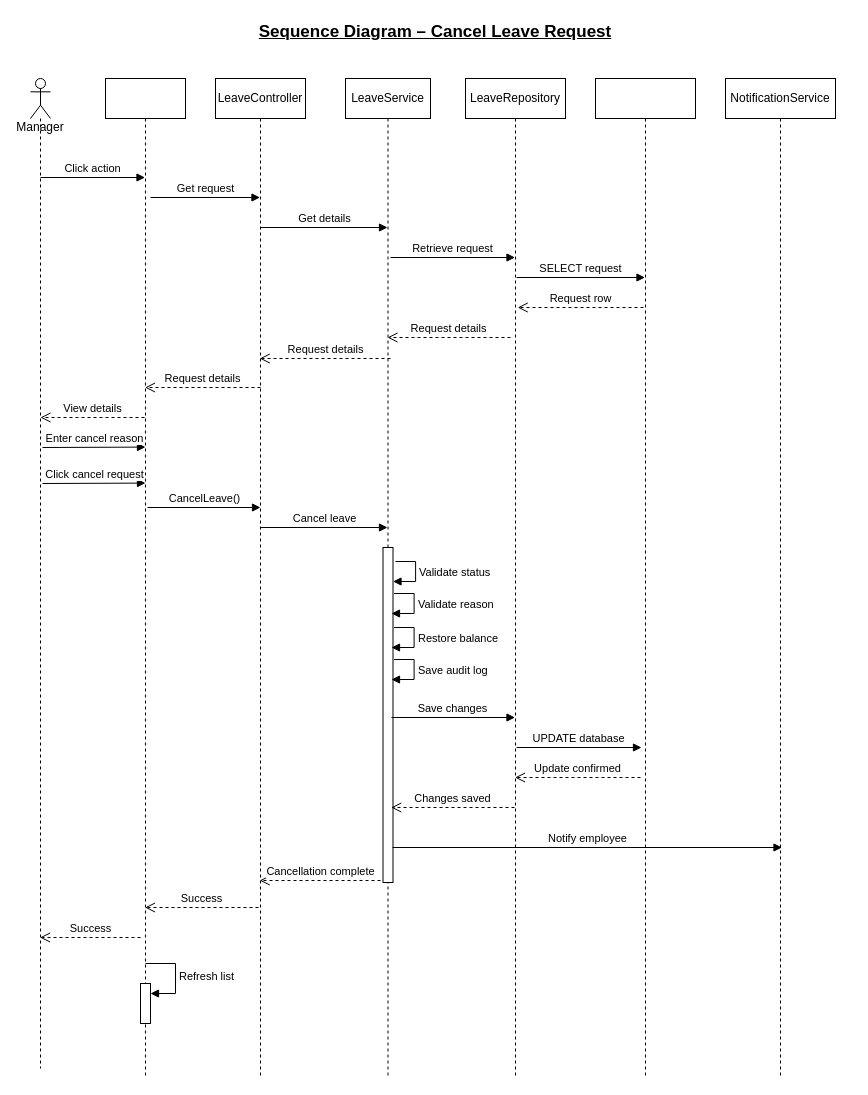
The diagram is 868 pixels wide and 1095 high, and some of its shapes have lost their labels. The box of each missing label's shape, as (x1, y1, x2, y2) in pixels:
Database: (594, 78, 696, 1078)
React UI: (104, 78, 186, 1078)
